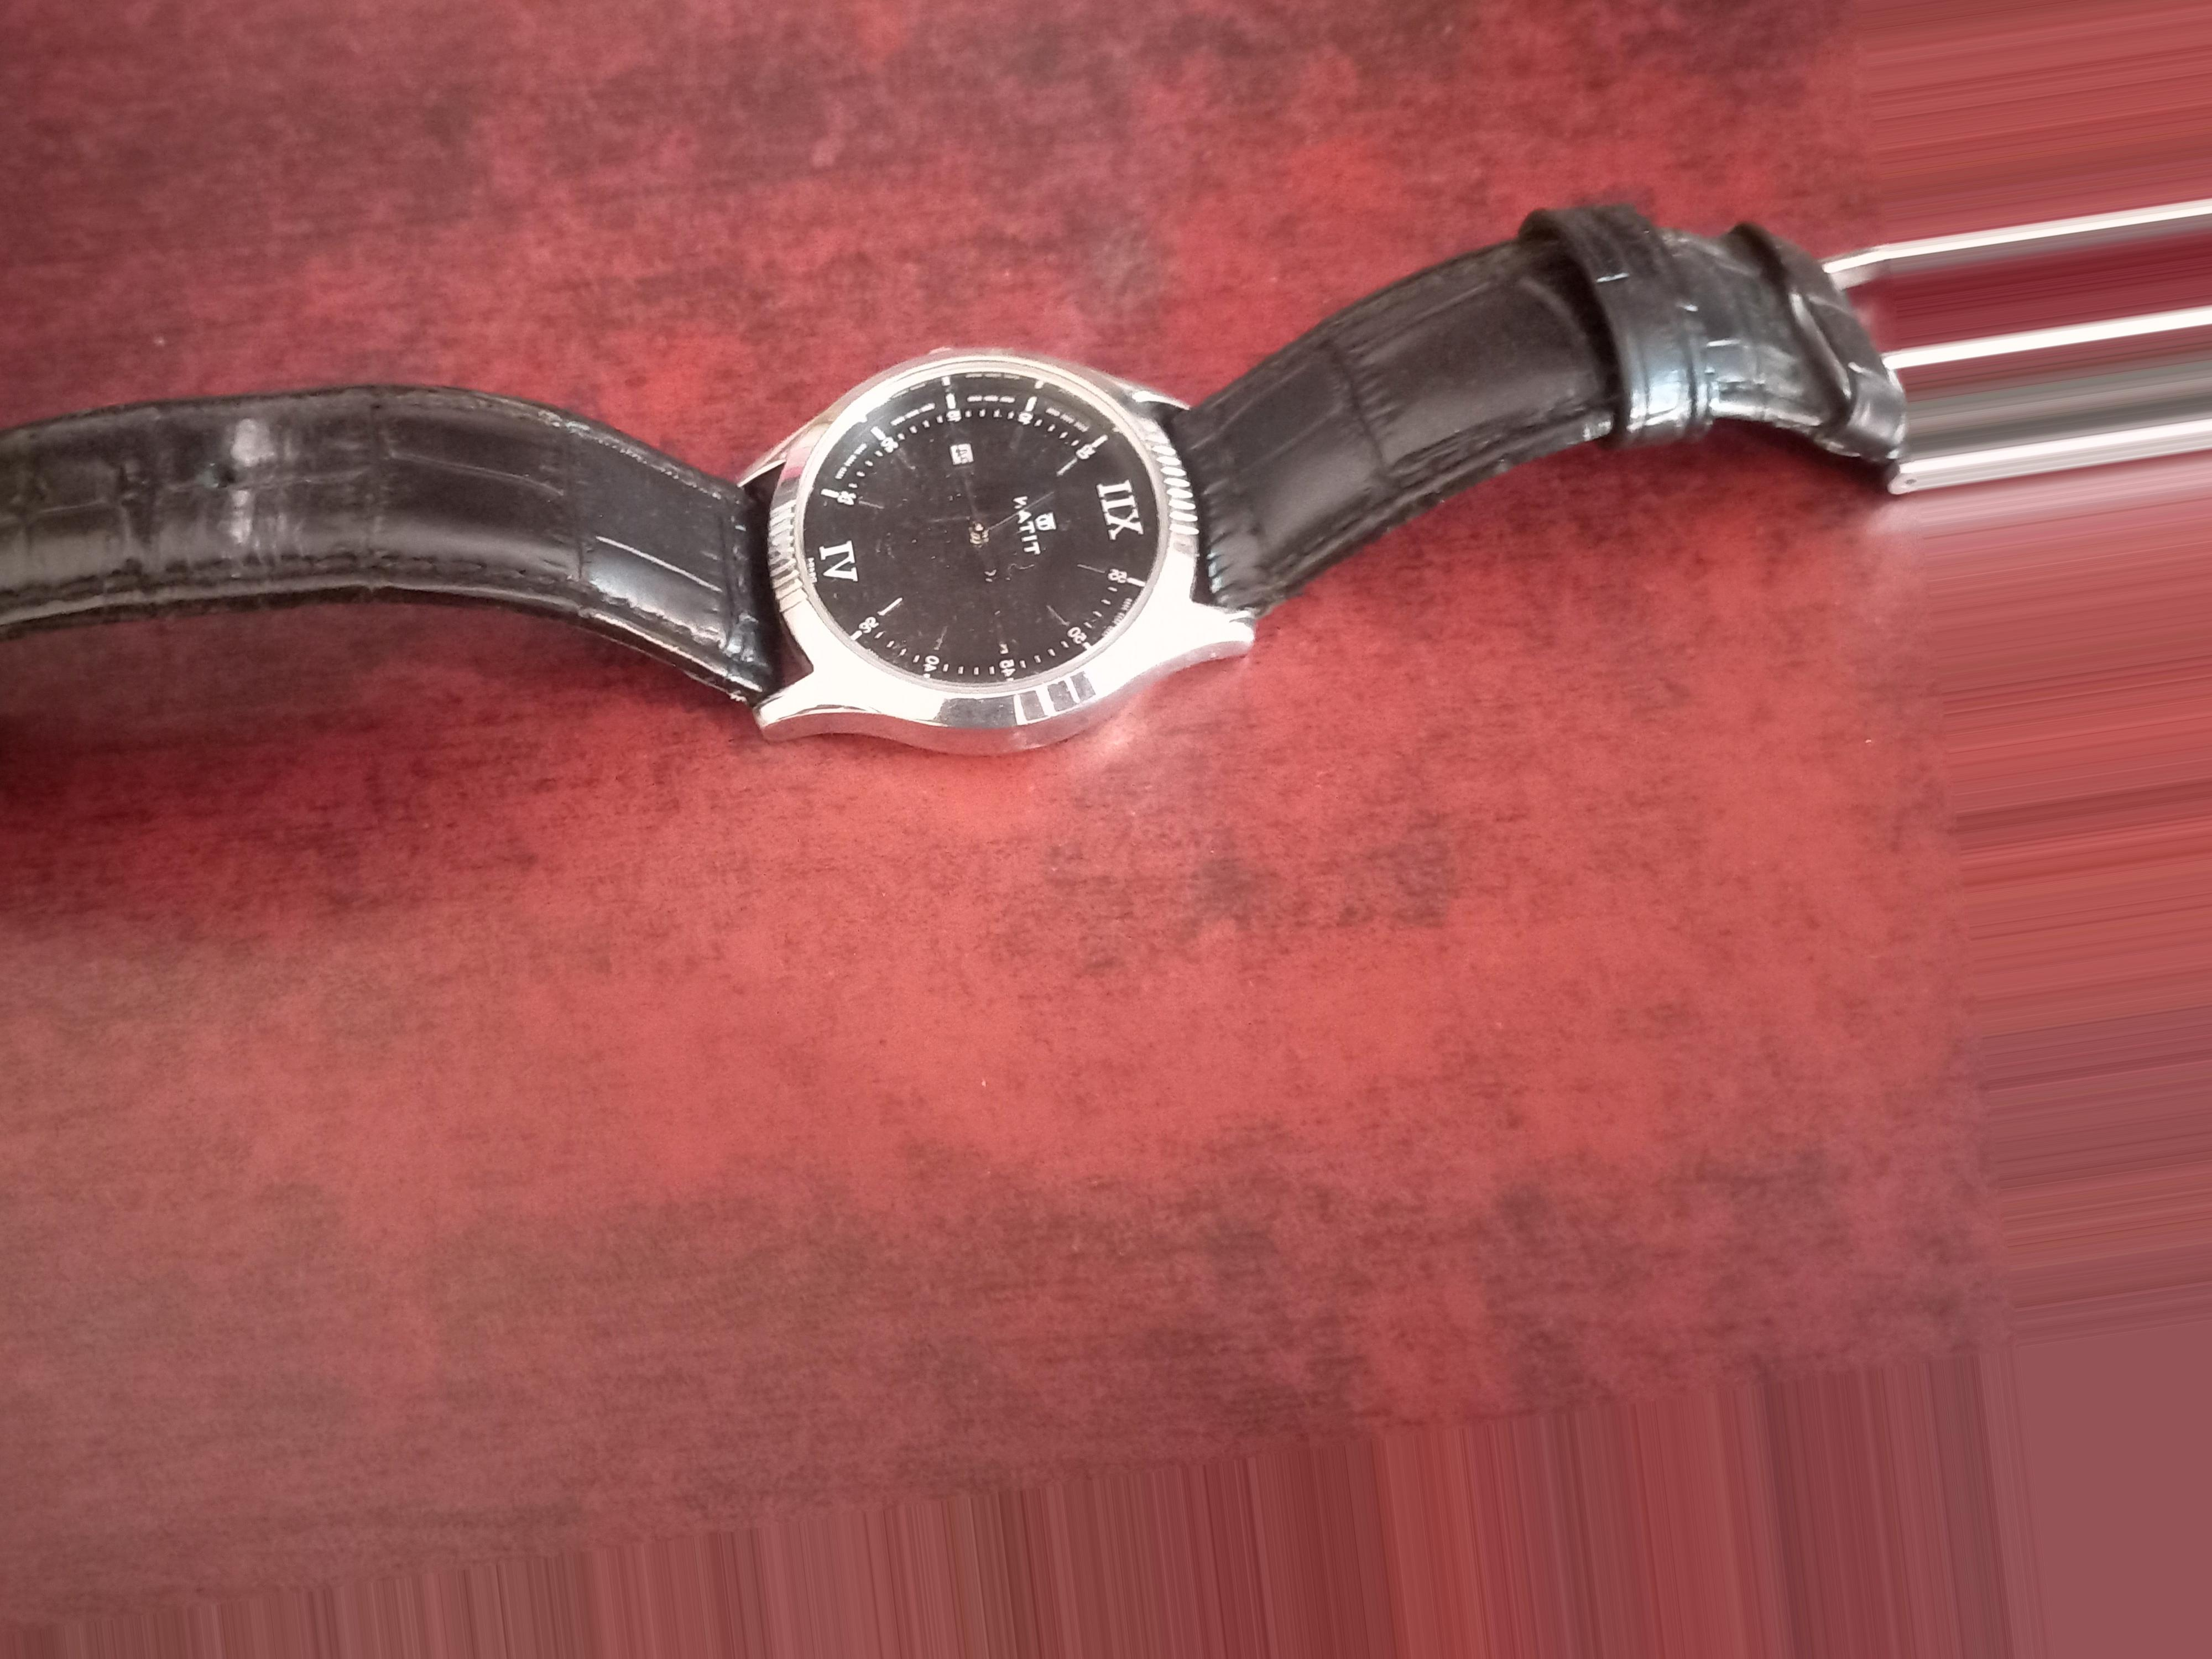watch: (0, 162, 2212, 1056)
